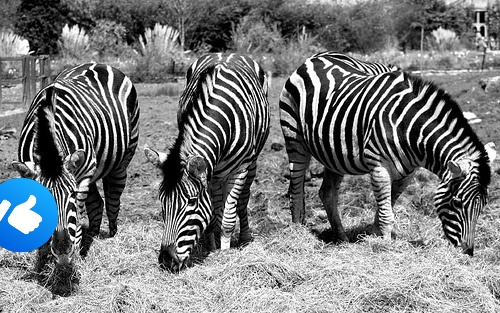like: (0, 178, 58, 252)
